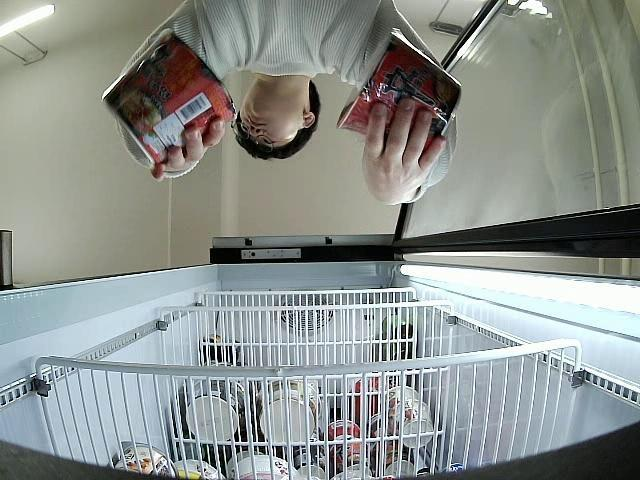01_ShinRamen_L: (101, 31, 238, 166), (335, 28, 462, 158)
